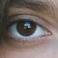eye: (17, 21, 36, 36)
